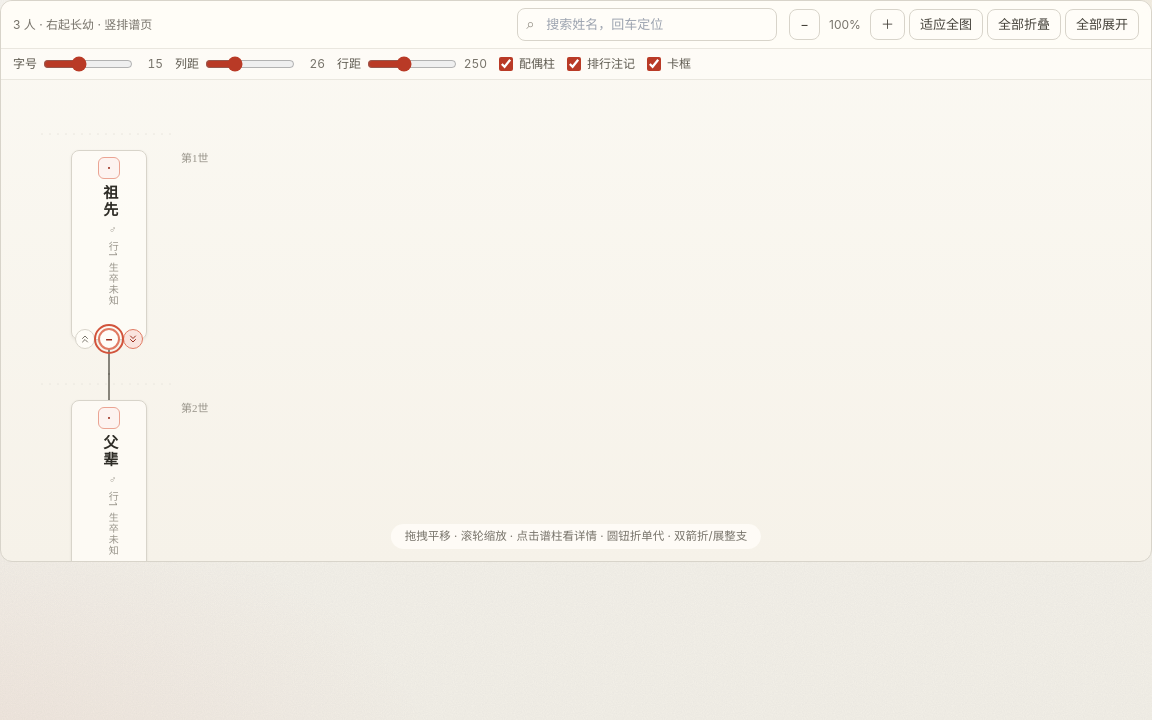
TraditionalView interactions › collapses a branch without opening details
Click the 2nd button titled "折叠此代": (109, 339) [98, 328, 120, 350]
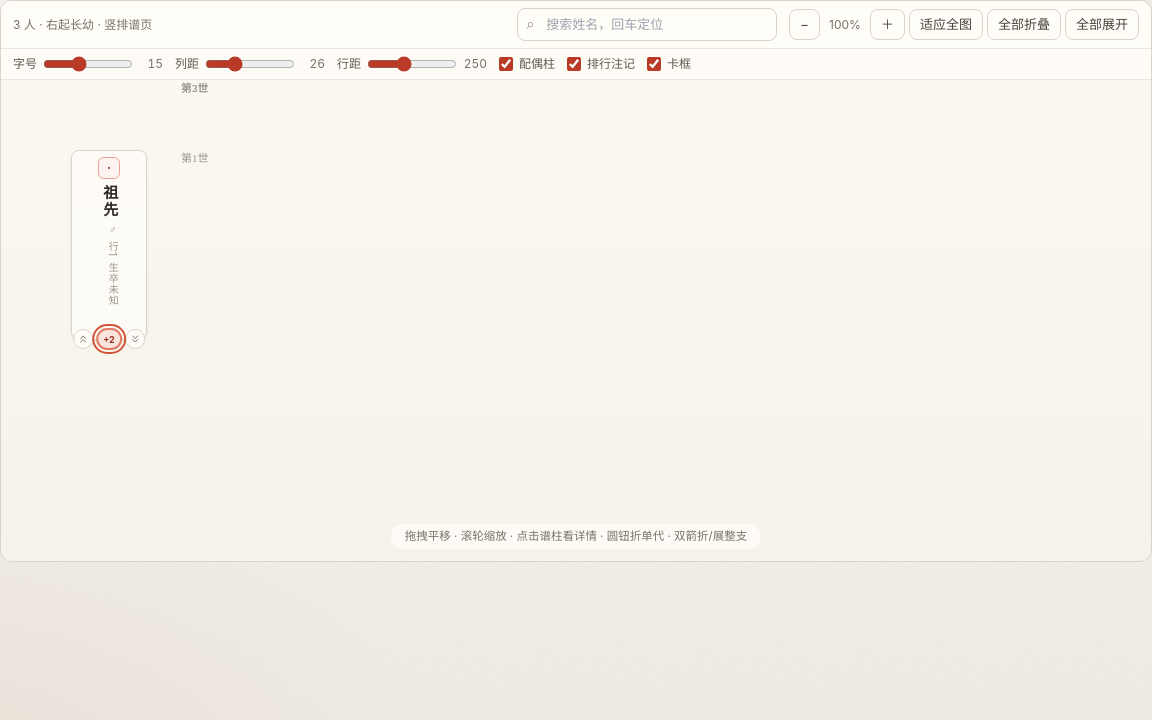
Check: the number of buttons "· 祖先 ♂ 行1 生卒未知 +2" is 1, box [71, 150, 147, 340]
